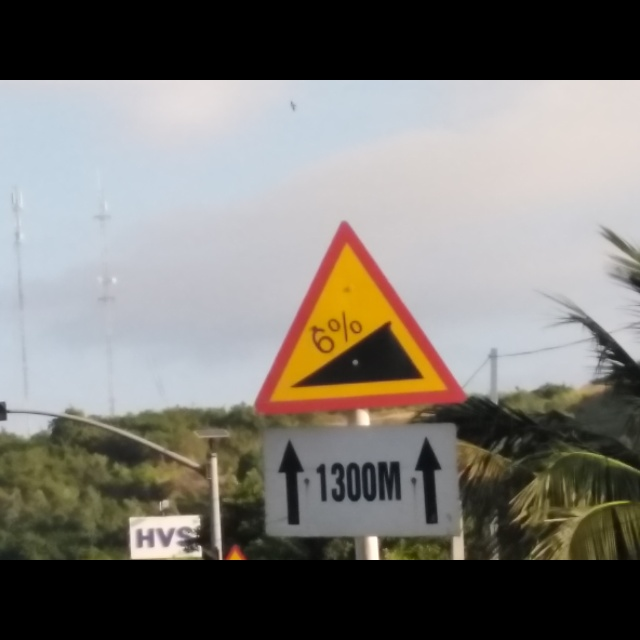Dốc lên nguy hiểm: (253, 213, 468, 416)
